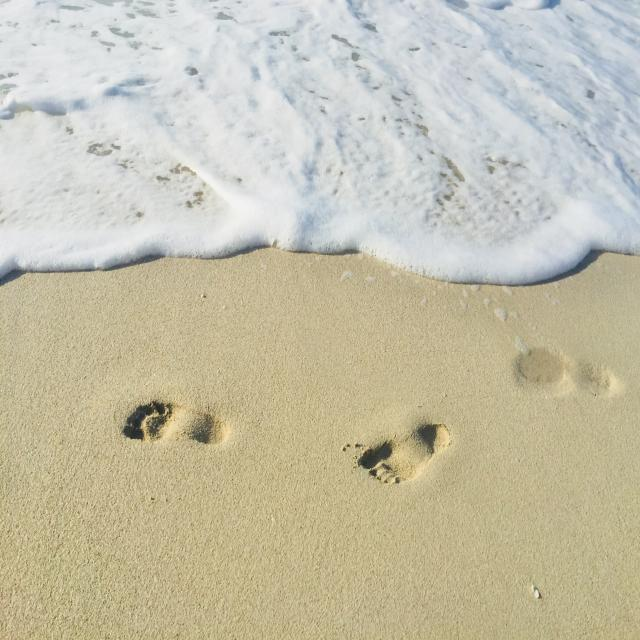human_footprint: (91, 363, 512, 547)
